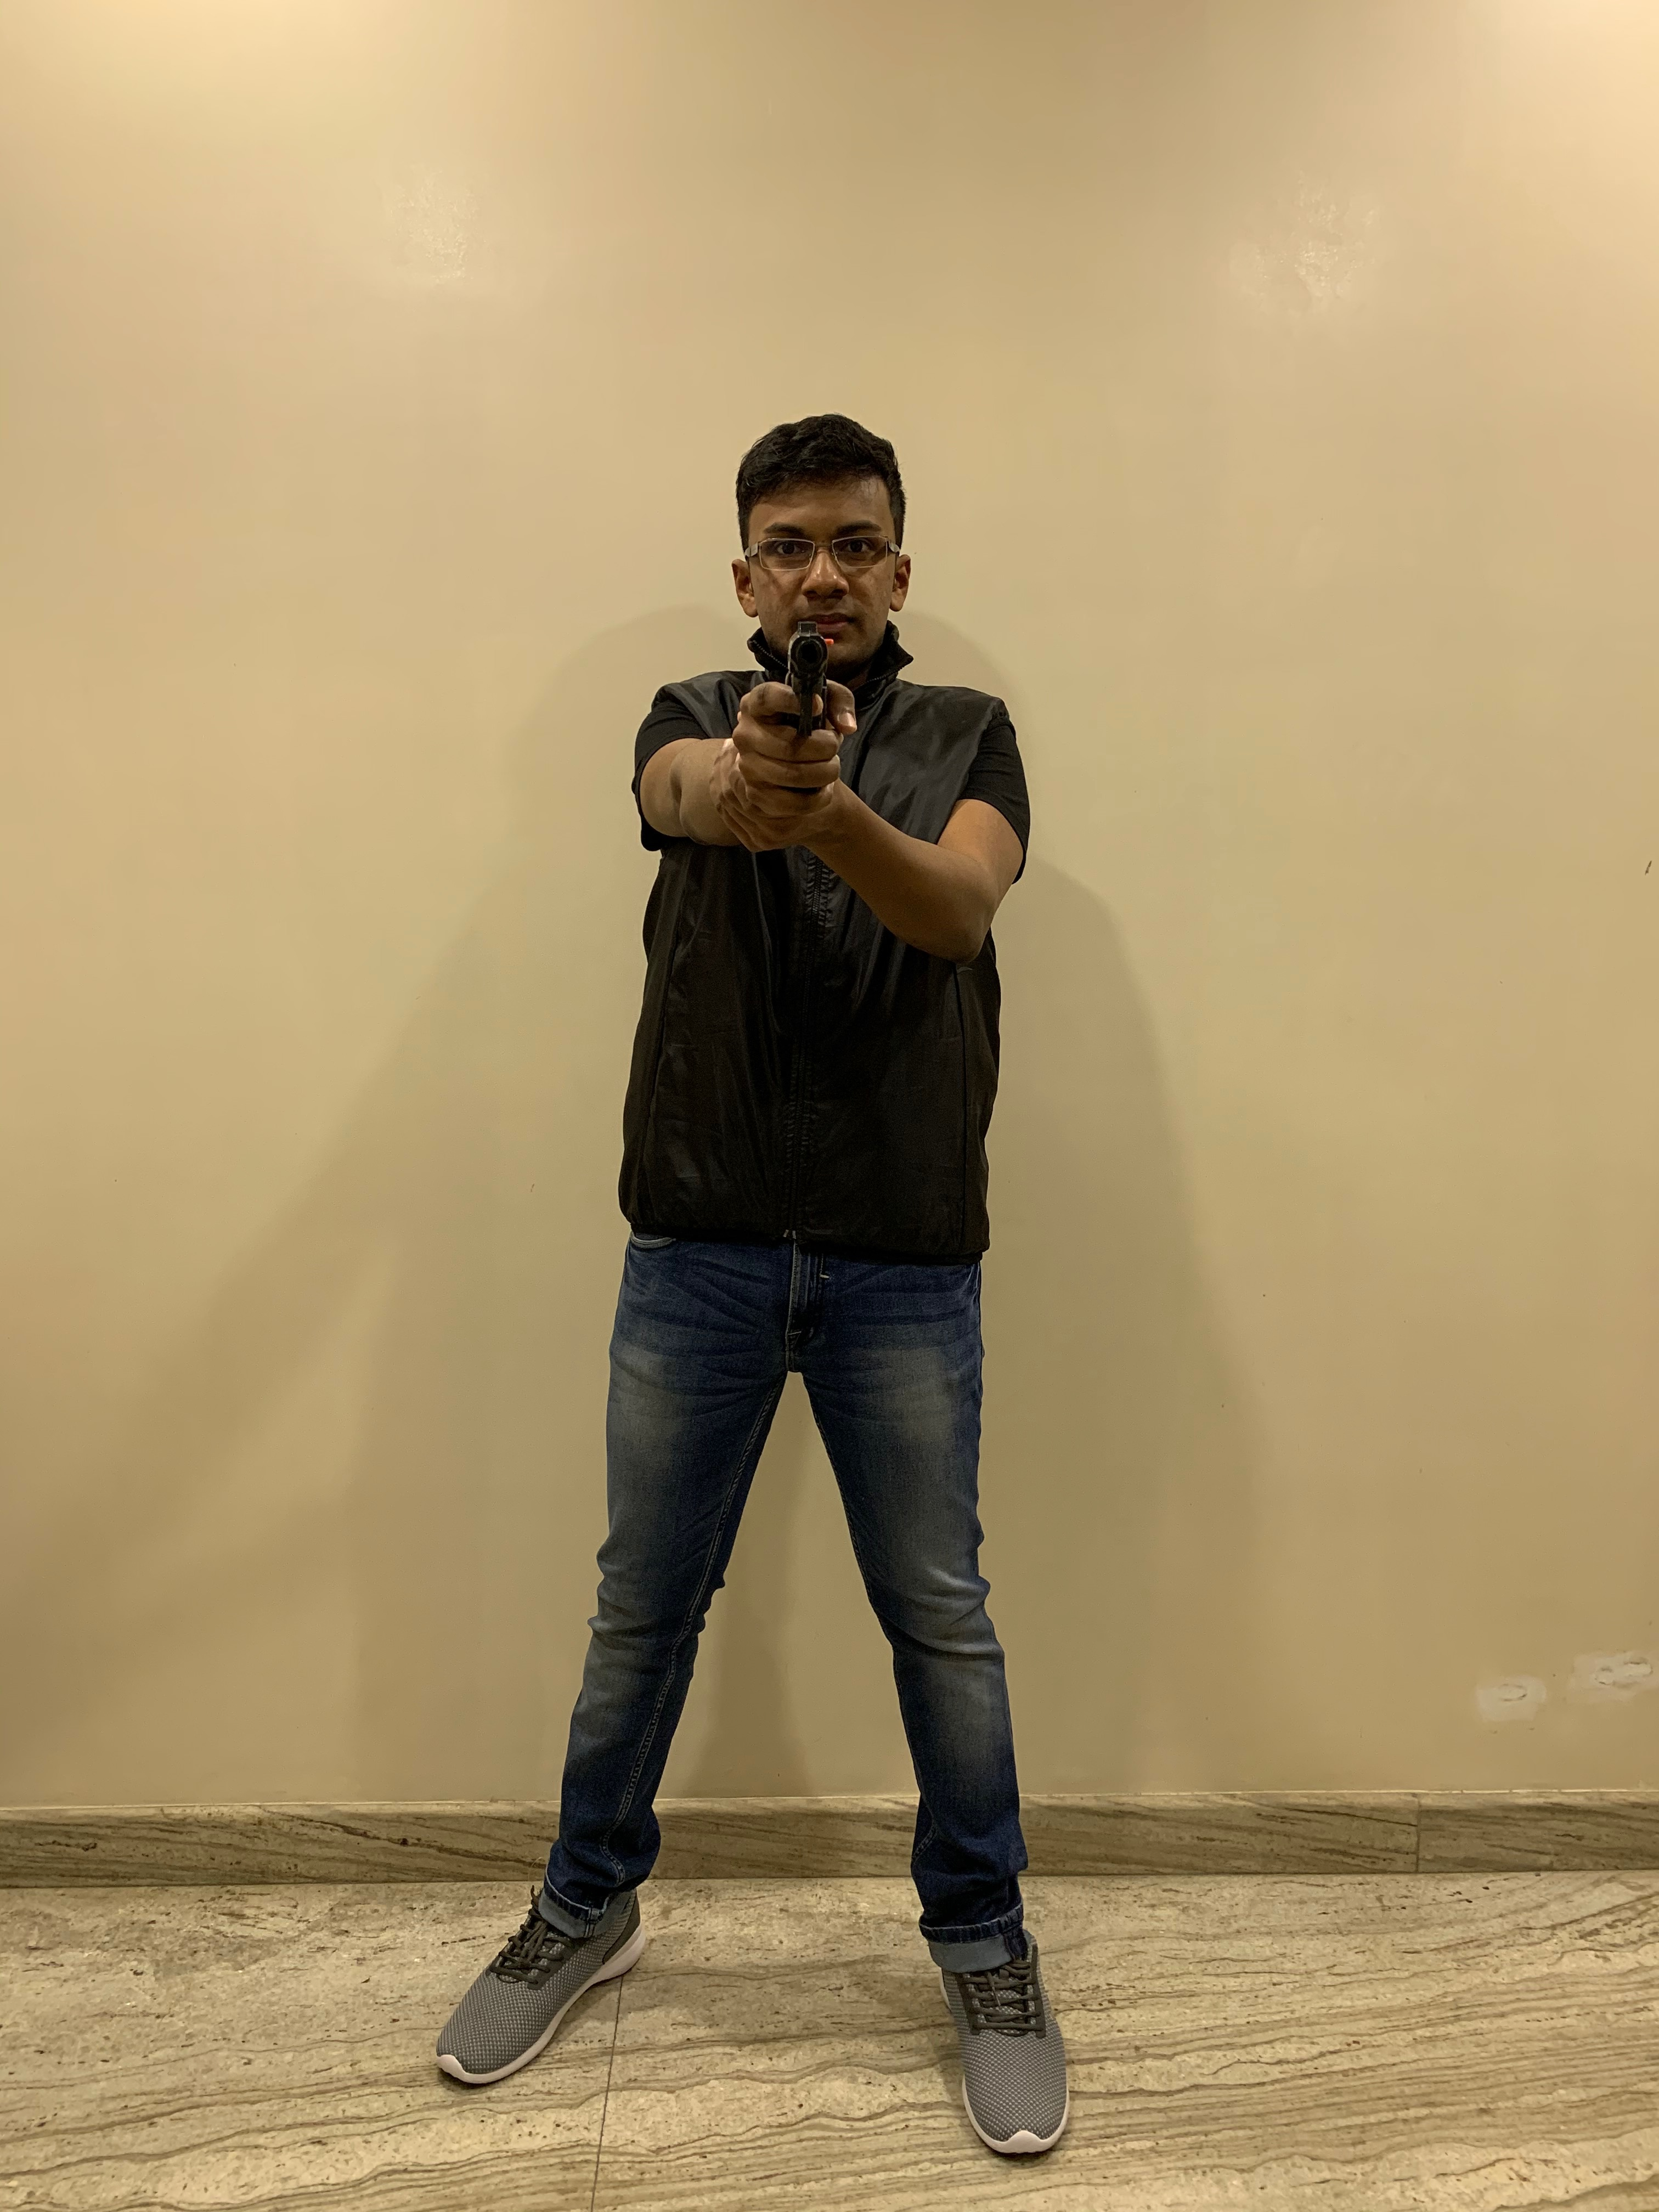gun: (784, 624, 833, 723)
